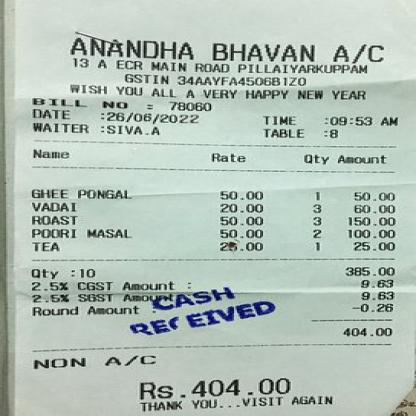receipts: (3, 2, 416, 414)
